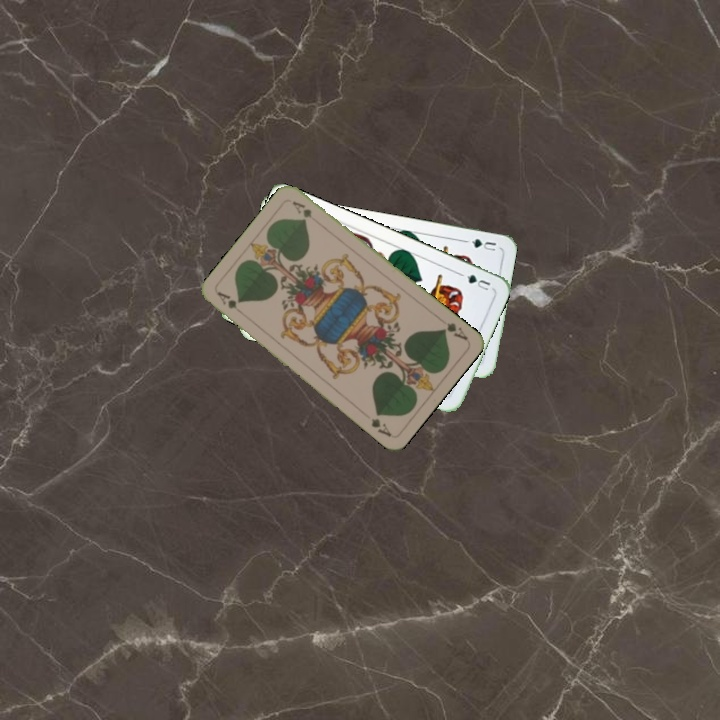GA: (213, 288, 248, 318), (438, 318, 471, 343)
GU: (462, 270, 493, 294), (467, 235, 499, 254)
